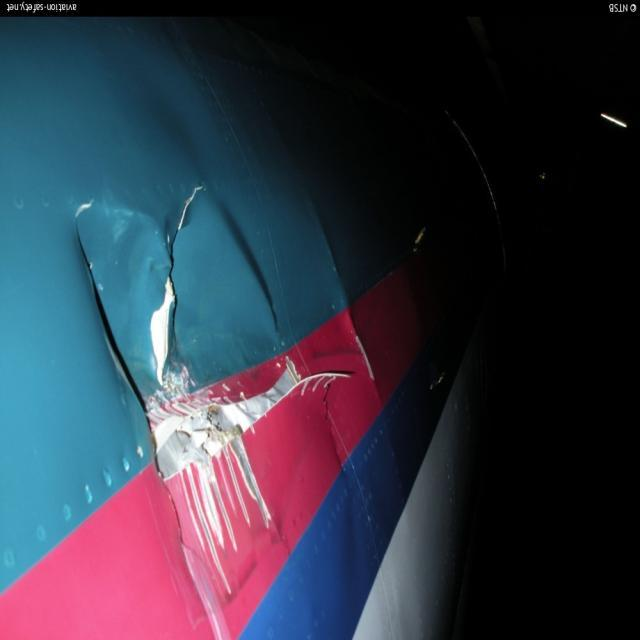crack: (153, 190, 213, 389)
